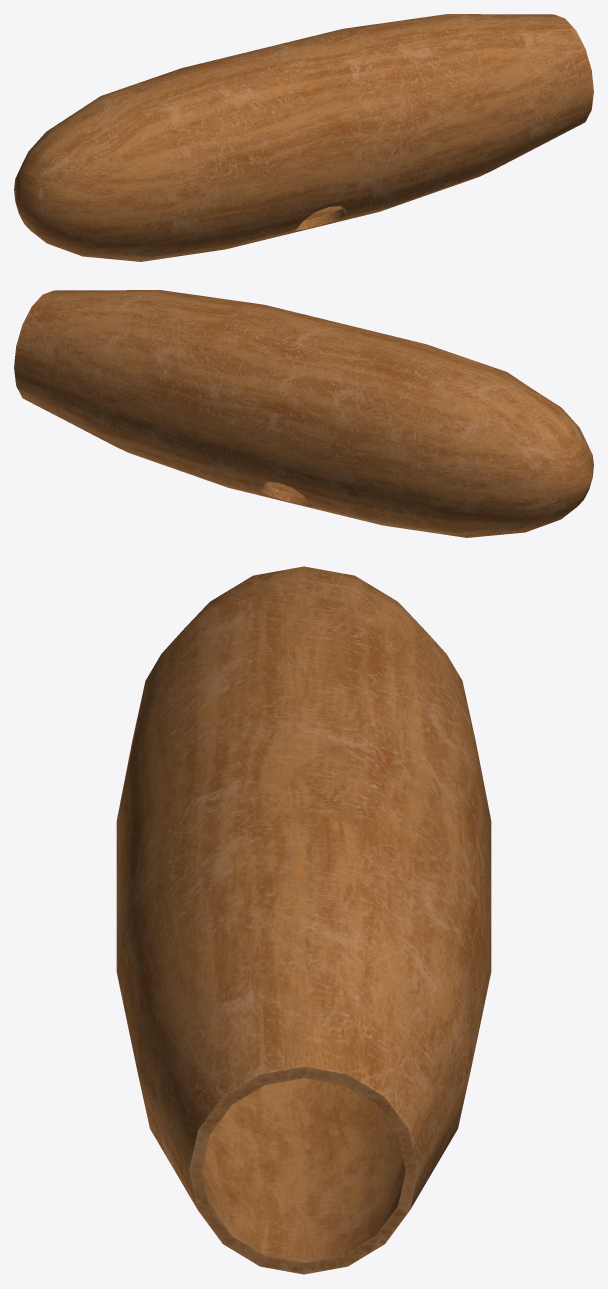
Rendered from Guiro.fbx.
3 renders of one model, top to bottom at view 1: azimuth 30°, elevation 25°; view 2: azimuth 150°, elevation 25°; view 3: azimuth 270°, elevation 25°, orthographic. The views are drawn at different scales.
Parts seen in each view (by area): view 1: Guiro; view 2: Guiro; view 3: Guiro.
Boxes of the visible parts, box(x1,y1,x2,y2) form: Guiro: box(14, 14, 593, 261); Guiro: box(14, 290, 593, 537); Guiro: box(116, 566, 491, 1274).
Bounding box in the file's own units: 40.89 × 12.1 × 12.1.
Materials: 1 (1 with a texture image).
